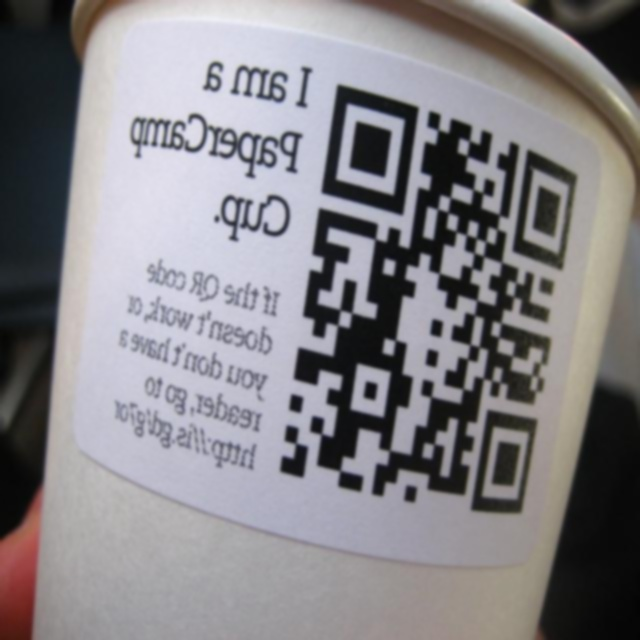qr-code: (280, 84, 578, 514)
